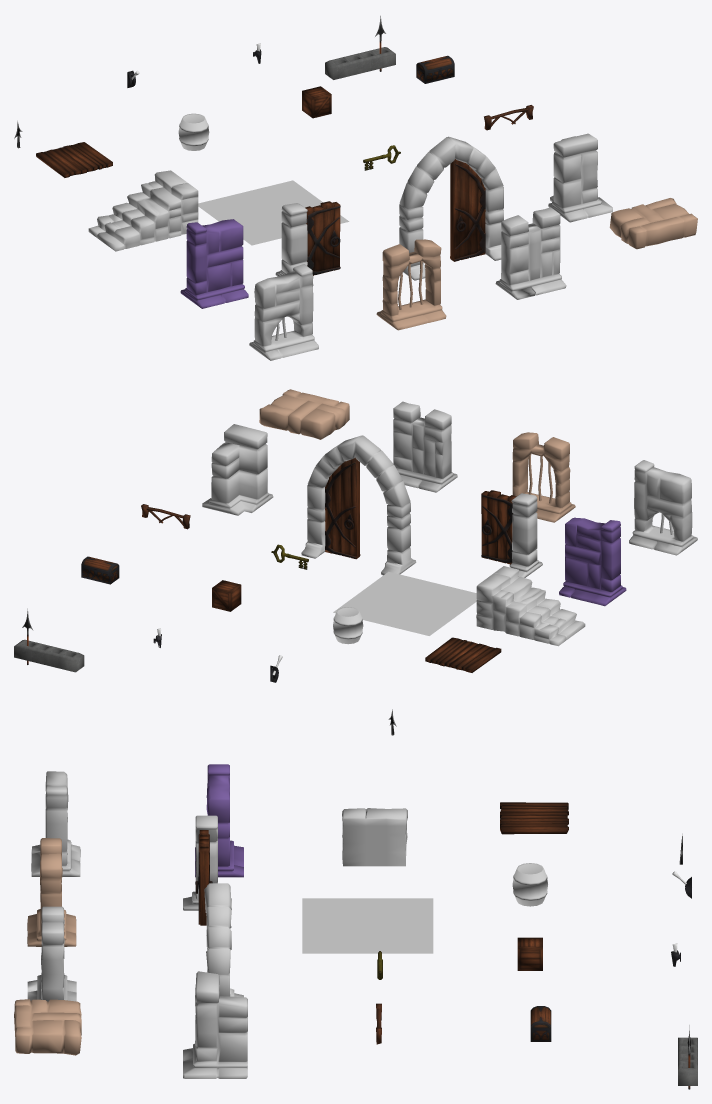
Rendered from Castle_Maze_Pack.fbx.
The picture shows the model from 3 angles, top to bottom: view 1: azimuth 30°, elevation 25°; view 2: azimuth 150°, elevation 25°; view 3: azimuth 270°, elevation 25°; orthographic projection. The views are drawn at different scales.
Parts seen in each view (by area): view 1: Arch, Stairs, Wall 3, Wall 5, Wall 1, Wall 2, Corner, Stone floor, Door 1, Wall 4, Door 2, Wall 6 (+5 smaller); view 2: Arch, Stairs, Stone floor, Wall 1, Wall 5, Wall 3, Corner, Wall 2, Door 1, Wall 4, Door 2, Wall 6 (+5 smaller); view 3: Stone floor, Corner, Stairs, Wall 4, Wall 3, Arch, Wall 1, Wall 2, Wall 5, Bridge, Barel, Wall 6 (+4 smaller).
Boxes of the visible parts, x1,y1,x2,y2 form: Arch: (399, 136, 503, 280); Stairs: (88, 170, 198, 251); Wall 3: (495, 207, 566, 299); Wall 5: (180, 219, 248, 308); Wall 1: (249, 264, 318, 360); Wall 2: (376, 239, 446, 330); Corner: (548, 133, 612, 222); Stone floor: (198, 180, 349, 245); Door 1: (450, 159, 485, 261); Wall 4: (609, 198, 697, 249); Door 2: (305, 201, 340, 275); Wall 6: (275, 203, 313, 285); Arch: (301, 435, 416, 575); Stairs: (476, 566, 585, 646); Stone floor: (333, 571, 476, 635); Wall 1: (629, 460, 697, 555); Wall 5: (559, 517, 626, 606); Wall 3: (393, 401, 457, 492); Corner: (202, 424, 273, 515); Wall 2: (512, 432, 575, 522); Door 1: (325, 457, 360, 559); Wall 4: (259, 389, 349, 439); Door 2: (481, 490, 516, 564); Wall 6: (509, 493, 542, 577); Stone floor: (302, 898, 433, 953); Corner: (183, 971, 247, 1078); Stairs: (342, 808, 407, 866); Wall 4: (14, 999, 81, 1055); Wall 3: (27, 906, 76, 1001); Arch: (195, 883, 243, 1043); Wall 1: (31, 771, 80, 876); Wall 2: (27, 838, 76, 946); Wall 5: (195, 764, 243, 877); Bridge: (500, 802, 568, 834); Barel: (512, 863, 547, 906); Wall 6: (183, 815, 231, 910).
Bounding box in the file's own units: 374 × 98.35 × 431.
